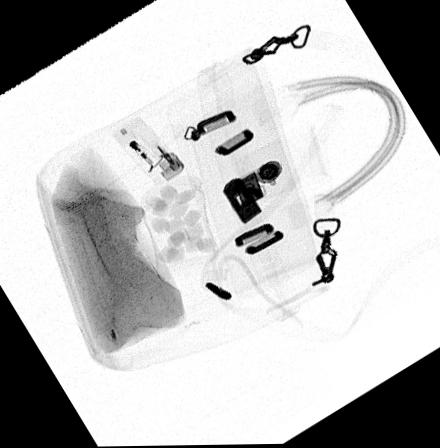Lighter: (111, 116, 184, 186)
